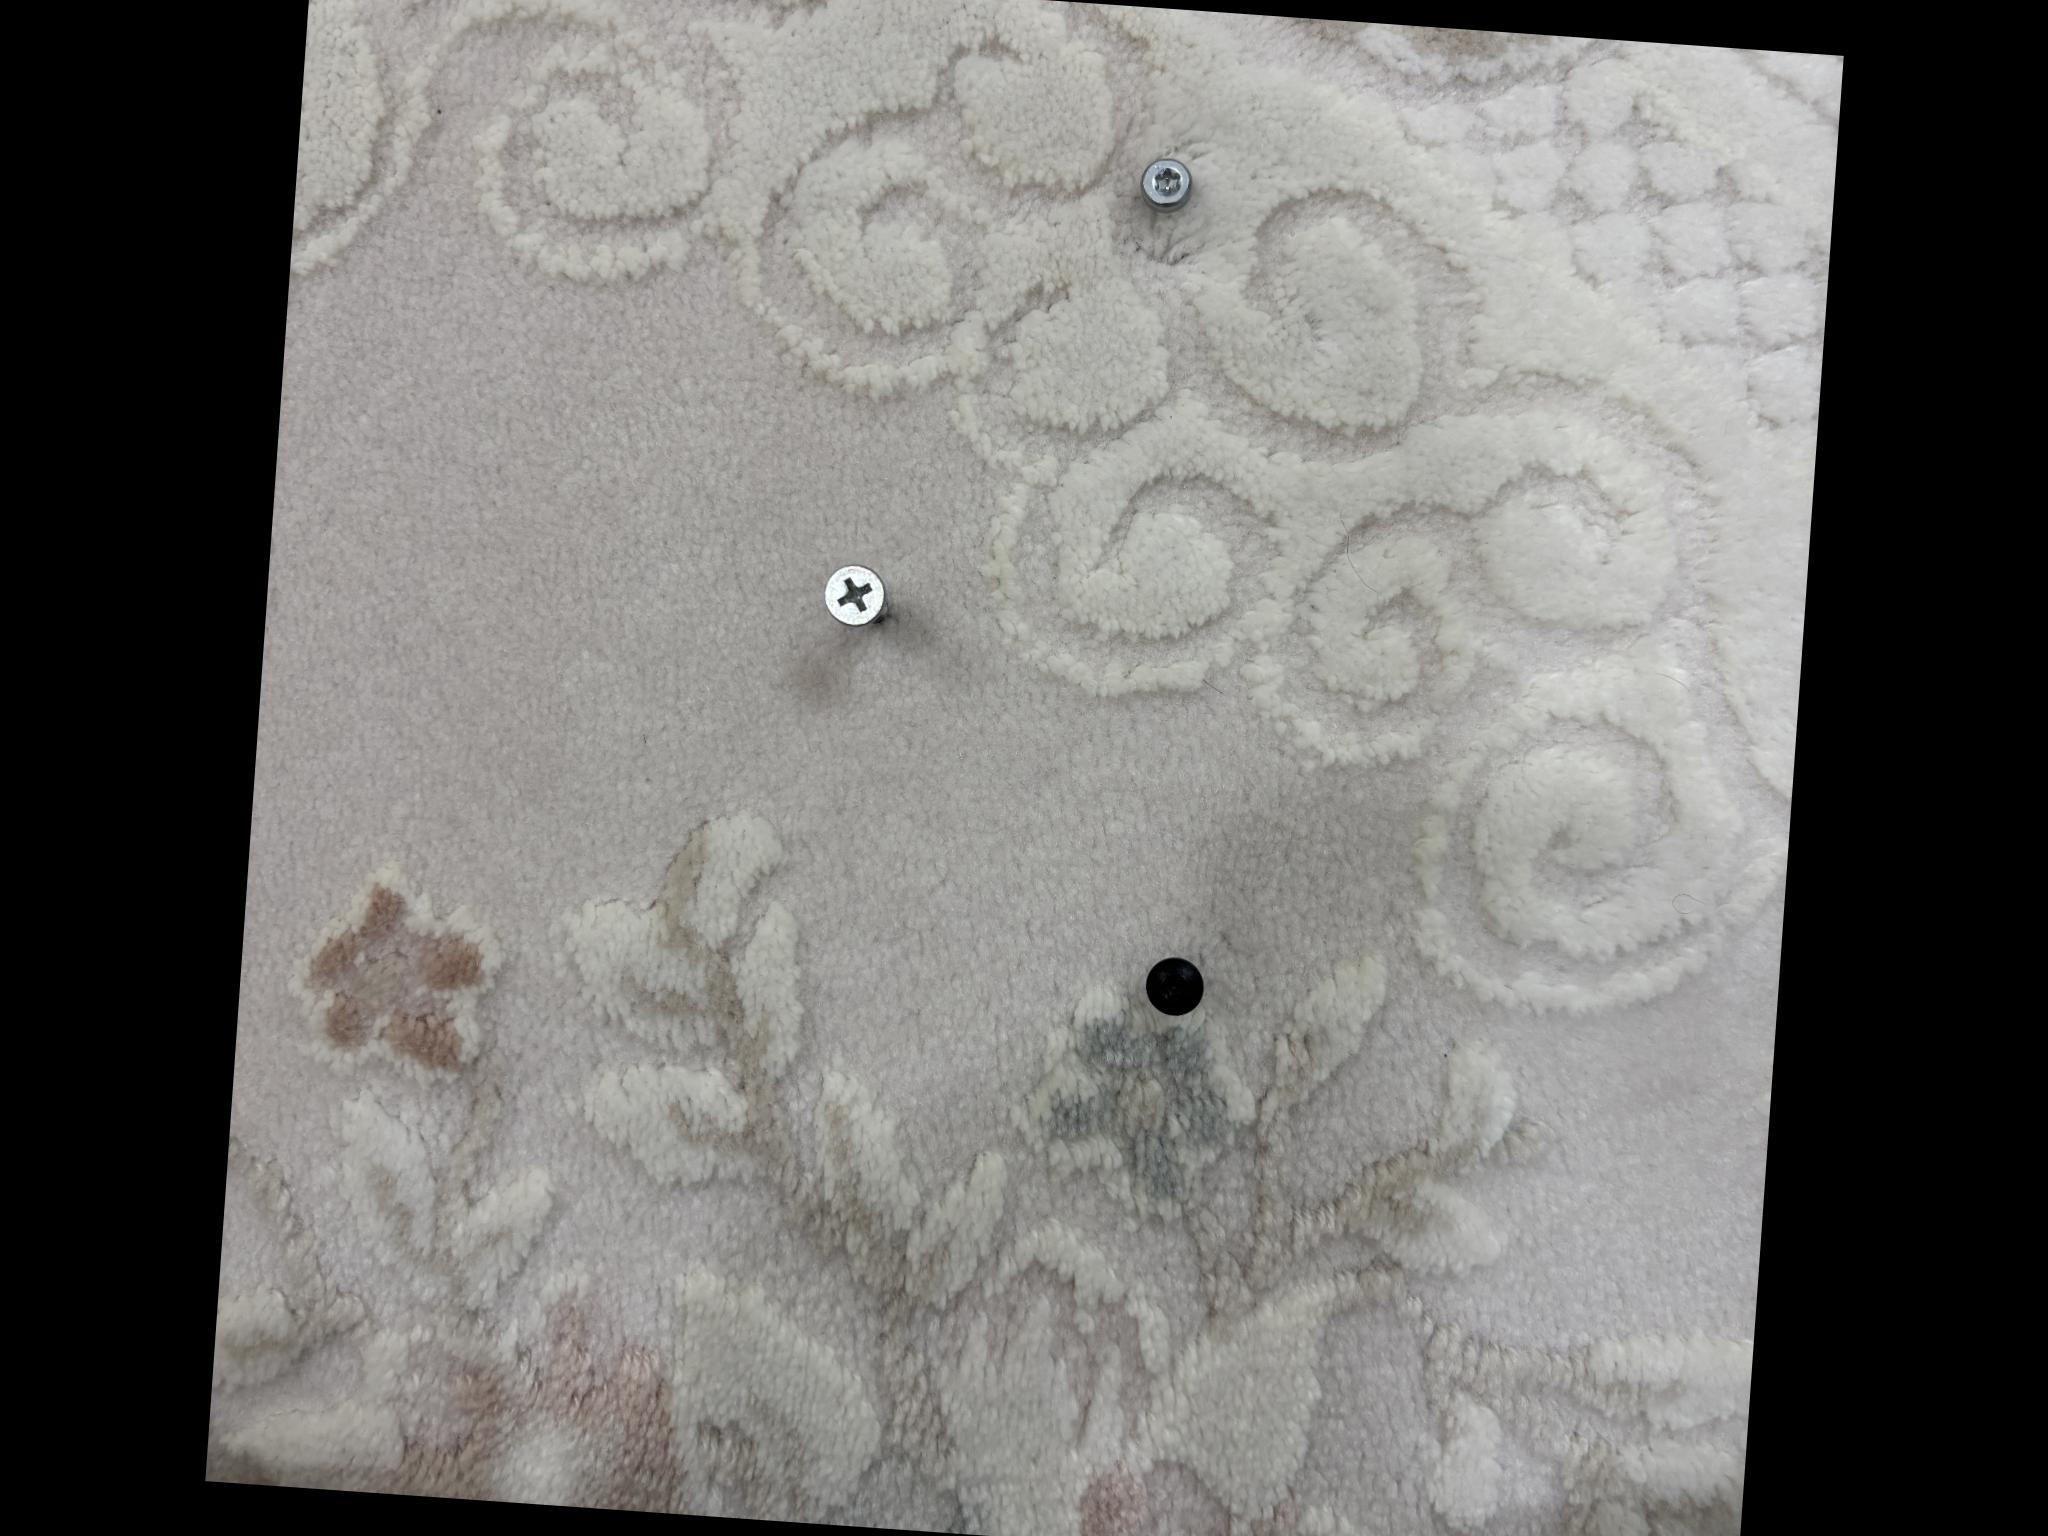H: (1343, 611, 1397, 662)
PH: (927, 295, 992, 355)
T: (539, 615, 598, 673)
